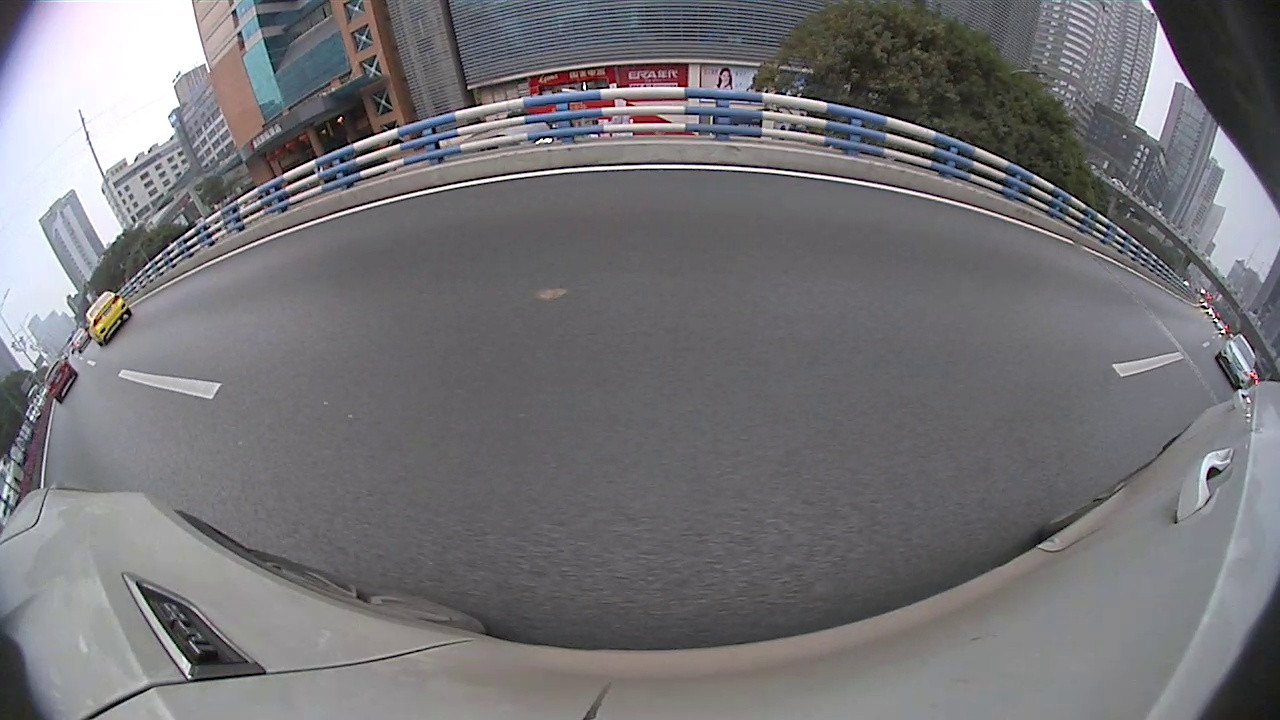car: (81, 290, 134, 346), (1212, 331, 1258, 391), (41, 360, 79, 403)
